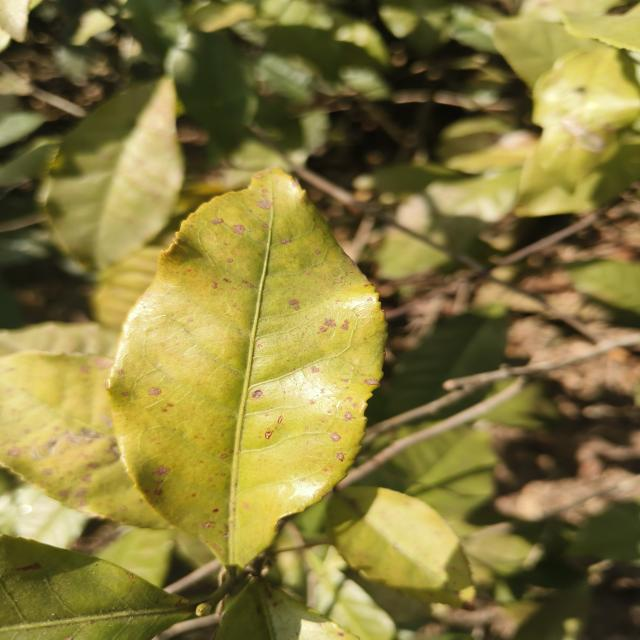Leaf: (108, 169, 386, 568), (0, 351, 166, 527), (43, 77, 184, 269), (0, 534, 196, 640), (327, 487, 474, 606), (530, 43, 640, 190), (368, 313, 508, 418), (356, 426, 497, 520), (166, 31, 255, 158), (395, 167, 521, 256), (493, 18, 591, 87), (310, 569, 396, 640), (567, 502, 640, 561), (376, 225, 451, 279), (567, 260, 640, 315)
